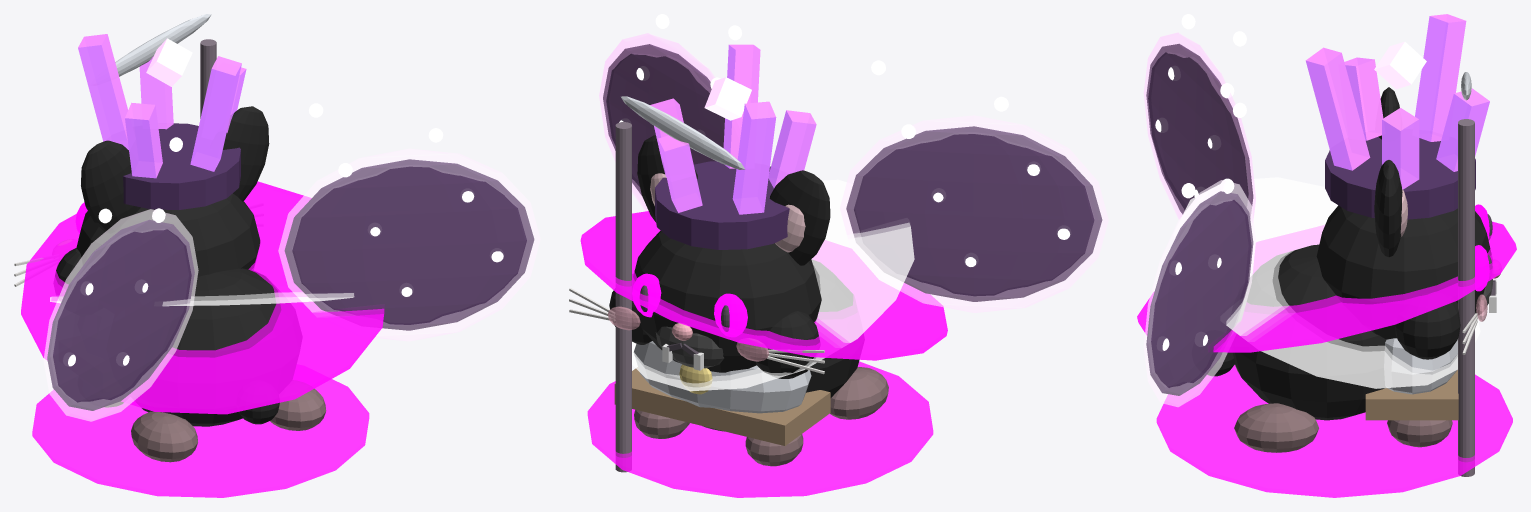
File: UnknownHamsterFinalHamster.glb
3 renders of one model, left to right at view 1: azimuth 30°, elevation 25°; view 2: azimuth 150°, elevation 25°; view 3: azimuth 270°, elevation 25°, orthographic. The views are drawn at different scales.
Visible parts, largest first — view 1: UnknownHamsterFinalHamster_2, UnknownHamsterFinalHamster_15, UnknownHamsterFinalHamster_0, UnknownHamsterFinalHamster_16, UnknownHamsterFinalHamster_9, UnknownHamsterFinalHamster_6, UnknownHamsterFinalHamster_3, UnknownHamsterFinalHamster_5, UnknownHamsterFinalHamster_22, UnknownHamsterFinalHamster_23, UnknownHamsterFinalHamster_12, UnknownHamsterFinalHamster_10 (+1 smaller); view 2: UnknownHamsterFinalHamster_2, UnknownHamsterFinalHamster_0, UnknownHamsterFinalHamster_16, UnknownHamsterFinalHamster_15, UnknownHamsterFinalHamster_9, UnknownHamsterFinalHamster_23, UnknownHamsterFinalHamster_6, UnknownHamsterFinalHamster_3, UnknownHamsterFinalHamster_11, UnknownHamsterFinalHamster_7, UnknownHamsterFinalHamster_8, UnknownHamsterFinalHamster_5 (+9 smaller); view 3: UnknownHamsterFinalHamster_0, UnknownHamsterFinalHamster_2, UnknownHamsterFinalHamster_16, UnknownHamsterFinalHamster_6, UnknownHamsterFinalHamster_23, UnknownHamsterFinalHamster_15, UnknownHamsterFinalHamster_9, UnknownHamsterFinalHamster_7, UnknownHamsterFinalHamster_3, UnknownHamsterFinalHamster_5, UnknownHamsterFinalHamster_8, UnknownHamsterFinalHamster_11 (+3 smaller).
Part boxes in pixels (x1=…): UnknownHamsterFinalHamster_2: x1=47, y1=159, x2=534, y2=410; UnknownHamsterFinalHamster_15: x1=21, y1=181, x2=384, y2=414; UnknownHamsterFinalHamster_0: x1=55, y1=106, x2=281, y2=426; UnknownHamsterFinalHamster_16: x1=32, y1=379, x2=369, y2=497; UnknownHamsterFinalHamster_9: x1=43, y1=148, x2=540, y2=421; UnknownHamsterFinalHamster_6: x1=78, y1=34, x2=246, y2=178; UnknownHamsterFinalHamster_3: x1=123, y1=123, x2=240, y2=210; UnknownHamsterFinalHamster_5: x1=105, y1=388, x2=326, y2=462; UnknownHamsterFinalHamster_22: x1=67, y1=103, x2=503, y2=366; UnknownHamsterFinalHamster_23: x1=50, y1=292, x2=354, y2=306; UnknownHamsterFinalHamster_12: x1=115, y1=14, x2=211, y2=76; UnknownHamsterFinalHamster_10: x1=146, y1=38, x2=192, y2=86; UnknownHamsterFinalHamster_2: x1=603, y1=44, x2=1102, y2=301; UnknownHamsterFinalHamster_0: x1=609, y1=135, x2=859, y2=397; UnknownHamsterFinalHamster_16: x1=587, y1=361, x2=933, y2=497; UnknownHamsterFinalHamster_15: x1=580, y1=211, x2=947, y2=360; UnknownHamsterFinalHamster_9: x1=599, y1=33, x2=1108, y2=312; UnknownHamsterFinalHamster_23: x1=632, y1=179, x2=914, y2=391; UnknownHamsterFinalHamster_6: x1=650, y1=44, x2=816, y2=214; UnknownHamsterFinalHamster_3: x1=655, y1=161, x2=789, y2=249; UnknownHamsterFinalHamster_11: x1=633, y1=341, x2=811, y2=413; UnknownHamsterFinalHamster_7: x1=615, y1=122, x2=631, y2=472; UnknownHamsterFinalHamster_8: x1=614, y1=367, x2=830, y2=445; UnknownHamsterFinalHamster_5: x1=634, y1=367, x2=888, y2=466; UnknownHamsterFinalHamster_0: x1=1207, y1=87, x2=1491, y2=420; UnknownHamsterFinalHamster_2: x1=1146, y1=44, x2=1253, y2=395; UnknownHamsterFinalHamster_16: x1=1156, y1=365, x2=1512, y2=497; UnknownHamsterFinalHamster_6: x1=1305, y1=14, x2=1489, y2=189; UnknownHamsterFinalHamster_23: x1=1173, y1=177, x2=1480, y2=388; UnknownHamsterFinalHamster_15: x1=1137, y1=221, x2=1516, y2=352; UnknownHamsterFinalHamster_9: x1=1143, y1=32, x2=1255, y2=406; UnknownHamsterFinalHamster_7: x1=1458, y1=119, x2=1474, y2=476; UnknownHamsterFinalHamster_3: x1=1325, y1=136, x2=1475, y2=219; UnknownHamsterFinalHamster_5: x1=1234, y1=364, x2=1452, y2=452; UnknownHamsterFinalHamster_8: x1=1365, y1=370, x2=1458, y2=420; UnknownHamsterFinalHamster_11: x1=1384, y1=338, x2=1457, y2=394.
Size of the model in its own units: 9.32 by 6.77 by 5.89.
